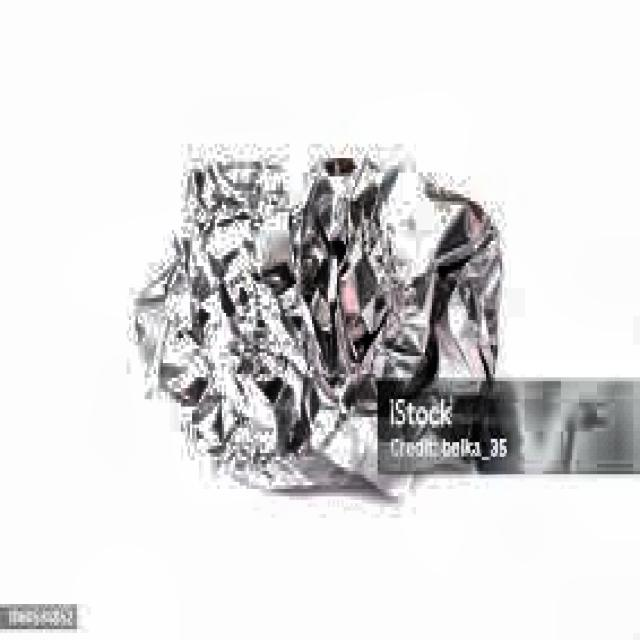Foil: (135, 150, 517, 500)
